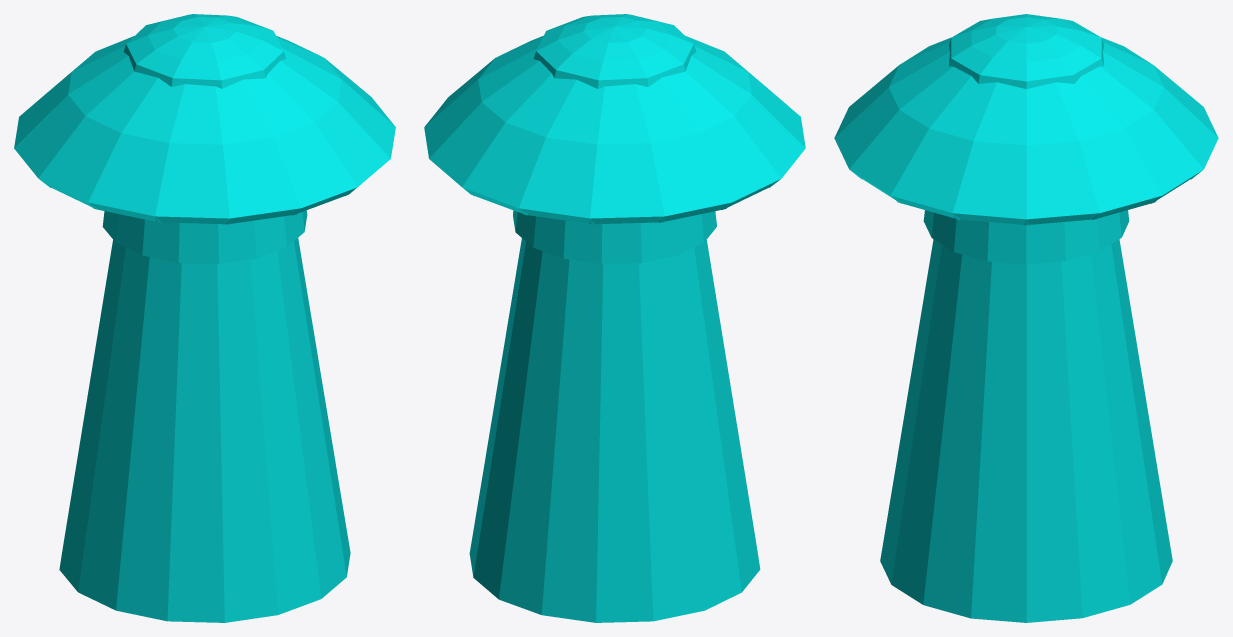
The model's file is SM_Bld_Preset_Tower_02_Collision.fbx.
The picture shows the model from 3 angles, left to right: view 1: azimuth 30°, elevation 25°; view 2: azimuth 150°, elevation 25°; view 3: azimuth 270°, elevation 25°; orthographic projection.
Visible parts, largest first — view 1: SM_Bld_Preset_Tower_02_Collision; view 2: SM_Bld_Preset_Tower_02_Collision; view 3: SM_Bld_Preset_Tower_02_Collision.
Part boxes in pixels (left/top/right/bottom): SM_Bld_Preset_Tower_02_Collision: left=14, top=14, right=395, bottom=622; SM_Bld_Preset_Tower_02_Collision: left=424, top=14, right=805, bottom=622; SM_Bld_Preset_Tower_02_Collision: left=834, top=14, right=1218, bottom=622.
Bounding box in the file's own units: 687 × 1059 × 687.
